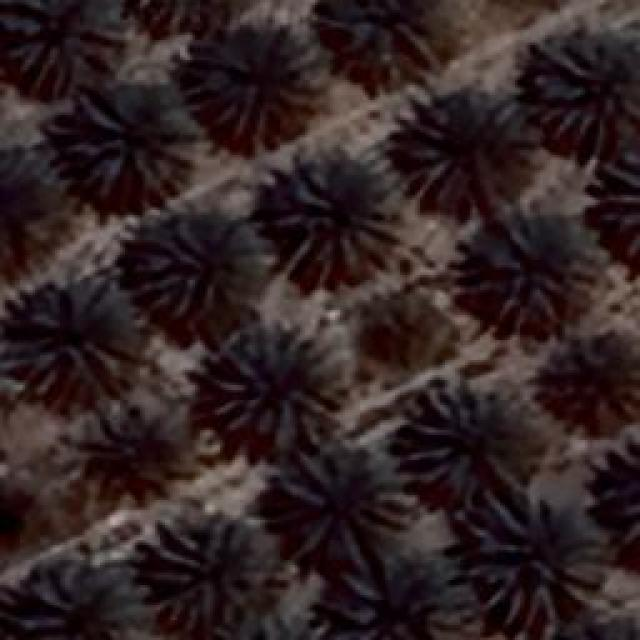PalmTree: (70, 15, 180, 598), (462, 492, 600, 626), (180, 22, 330, 142), (147, 512, 290, 630), (129, 210, 269, 330), (272, 160, 398, 285), (208, 330, 342, 445), (4, 285, 134, 403), (275, 448, 410, 560), (470, 218, 595, 330), (67, 92, 195, 200), (395, 388, 515, 490), (530, 29, 638, 142), (400, 100, 522, 195), (8, 0, 128, 95), (336, 0, 456, 92), (332, 560, 466, 640), (94, 414, 194, 506), (550, 340, 640, 440), (0, 158, 65, 274), (351, 296, 444, 376), (597, 456, 640, 566), (600, 150, 638, 248), (213, 613, 340, 640), (0, 470, 40, 552), (550, 617, 640, 640), (545, 622, 640, 640)
